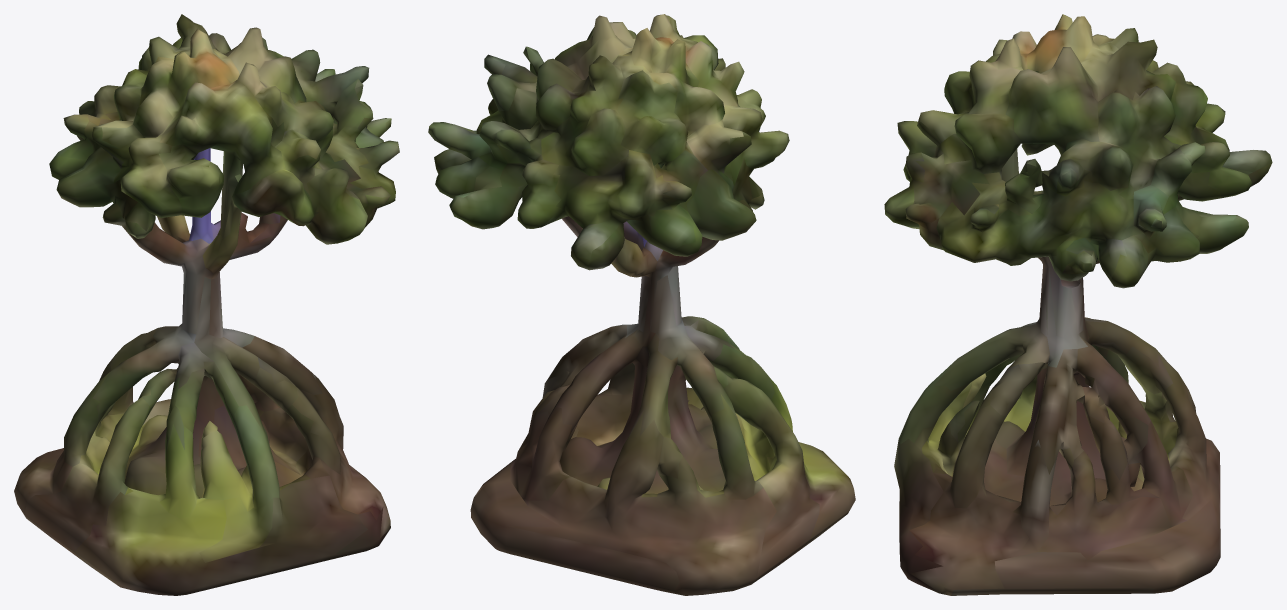
File: s02_mangue.glb
3 renders of one model, left to right at view 1: azimuth 30°, elevation 25°; view 2: azimuth 150°, elevation 25°; view 3: azimuth 270°, elevation 25°, orthographic. The views are drawn at different scales.
Parts seen in each view (by area): view 1: s02_mangue; view 2: s02_mangue; view 3: s02_mangue.
Part boxes in pixels (box(x1,y1,x2,y2)): s02_mangue: box(14, 14, 399, 595); s02_mangue: box(428, 14, 855, 595); s02_mangue: box(884, 14, 1272, 595).
Size of the model in its own units: 0.8416 by 1.16 by 0.7909.
Materials: 1 (1 with a texture image).
